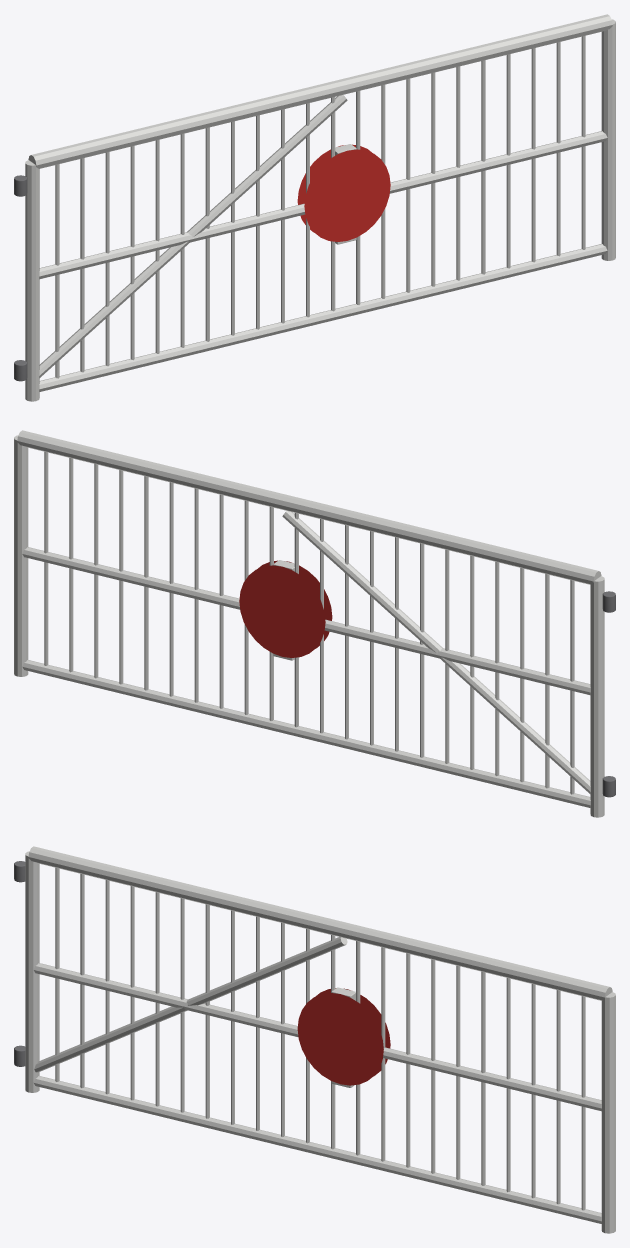
File: lx_gate_30.glb
The picture shows the model from 3 angles, top to bottom: view 1: azimuth 30°, elevation 25°; view 2: azimuth 150°, elevation 25°; view 3: azimuth 330°, elevation 25°; orthographic projection.
Parts seen in each view (by area): view 1: SM_lx_gate_30; view 2: SM_lx_gate_30; view 3: SM_lx_gate_30.
Boxes of the visible parts, x1,y1,x2,y2 form: SM_lx_gate_30: (14,14,615,401); SM_lx_gate_30: (14,430,615,817); SM_lx_gate_30: (14,846,615,1233).
Size of the model in its own units: 3.06 by 1.18 by 0.07.
